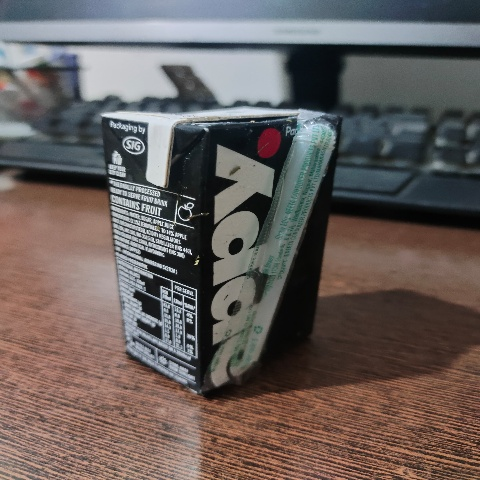appy: (90, 98, 354, 406)
